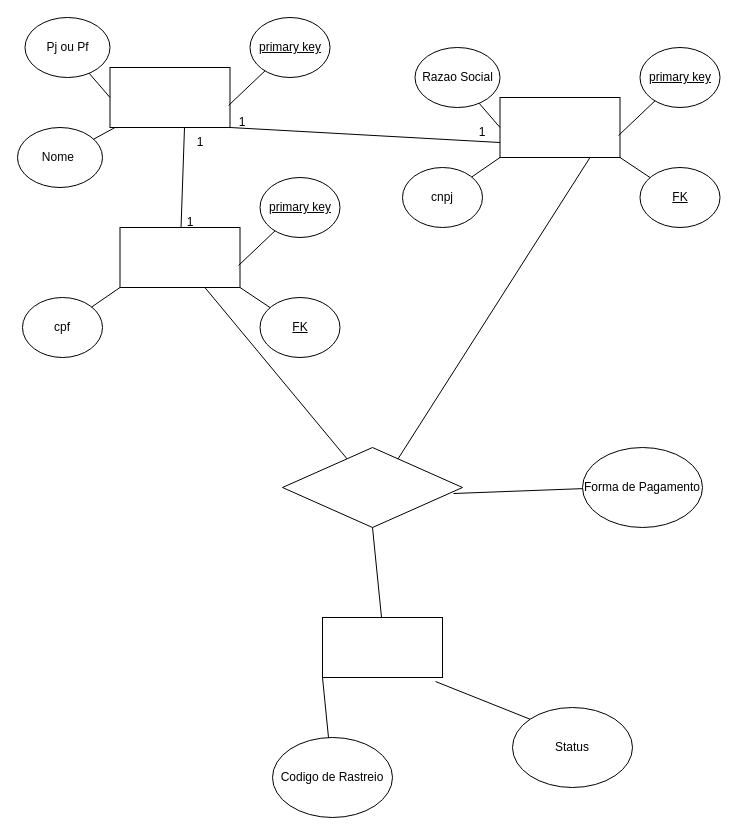
Image size: 738x835. Some labels were removed from this diagram. The shapes that lost their labels are listed below. From the top down, each one's centre as x and y in pixels, then its label:
At point (169, 97): "Cliente".
At point (559, 127): "Cliente Pj".
At point (179, 257): "Cliente Pf".
At point (372, 487): "Pagamento".
At point (382, 647): "Entrega".
